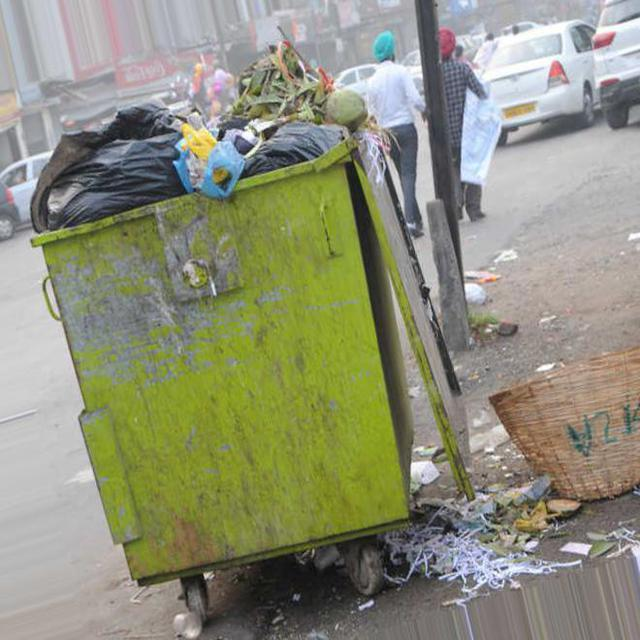garbage: (8, 23, 370, 220), (408, 337, 639, 608), (457, 239, 543, 308), (624, 221, 639, 247)
